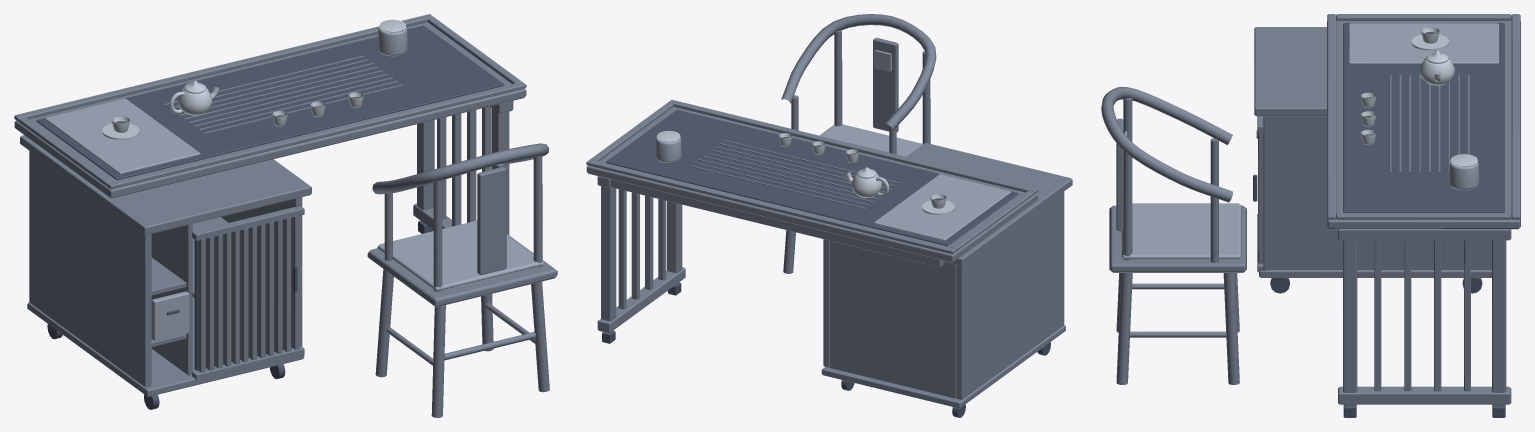
Rendered from 组合茶桌-lite.glb.
3 renders of one model, left to right at view 1: azimuth 30°, elevation 25°; view 2: azimuth 150°, elevation 25°; view 3: azimuth 270°, elevation 25°, orthographic. The views are drawn at different scales.
Parts seen in each view (by area): view 1: tea-table-set; view 2: tea-table-set; view 3: tea-table-set.
Boxes of the visible parts, box(x1,y1,x2,y2) form: tea-table-set: box(14, 14, 557, 417); tea-table-set: box(586, 14, 1072, 417); tea-table-set: box(1101, 14, 1520, 417).
Bounding box in the file's own units: 1.61 × 0.94 × 1.4.
